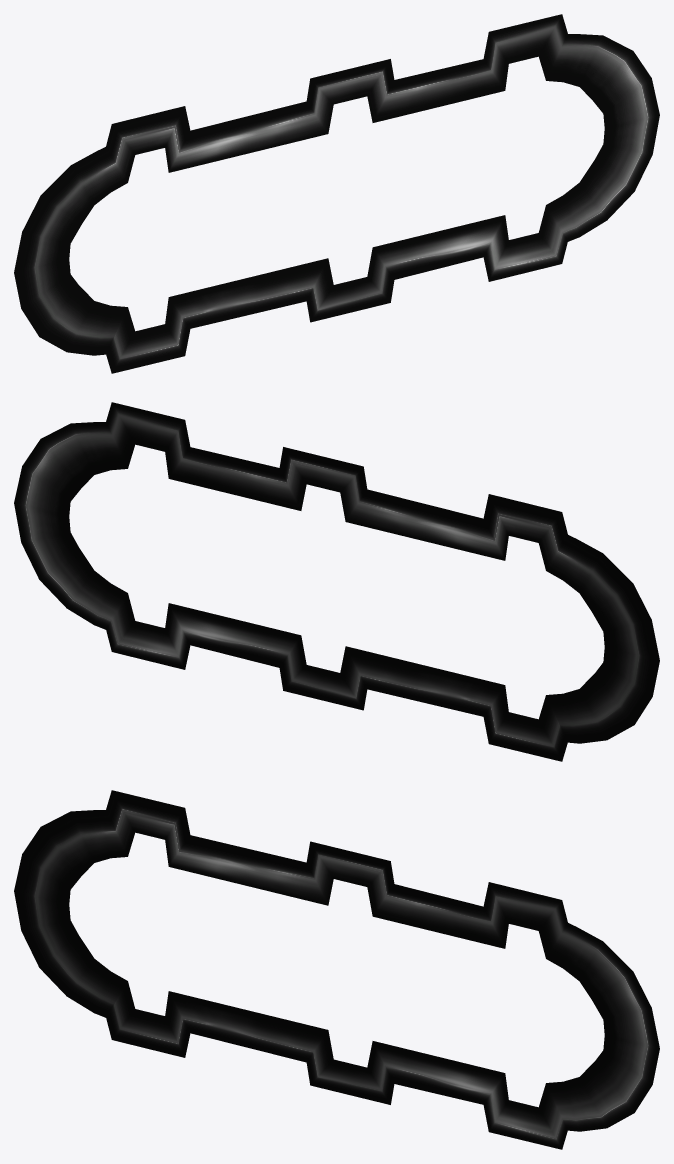
Rendered from thickbordermesh.fbx.
The picture shows the model from 3 angles, top to bottom: view 1: azimuth 30°, elevation 25°; view 2: azimuth 150°, elevation 25°; view 3: azimuth 330°, elevation 25°; orthographic projection.
Visible parts, largest first — view 1: pCylinder5; view 2: pCylinder5; view 3: pCylinder5.
Part boxes in pixels (x1,y1,x2,y2): pCylinder5: (14, 14, 659, 373); pCylinder5: (14, 402, 659, 761); pCylinder5: (14, 790, 659, 1149).
Bounding box in the file's own units: 4.26 × 1.58 × 7.75e-07.
